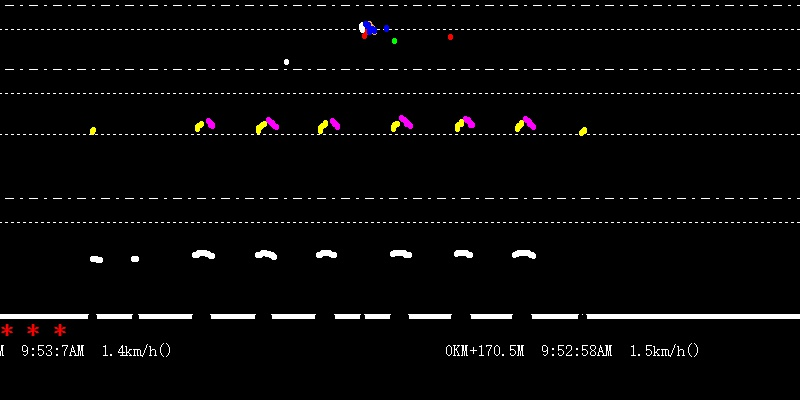face_2: (357, 16, 377, 39)
star: (51, 320, 68, 340), (24, 323, 40, 339)
y_p: (181, 108, 545, 268)
